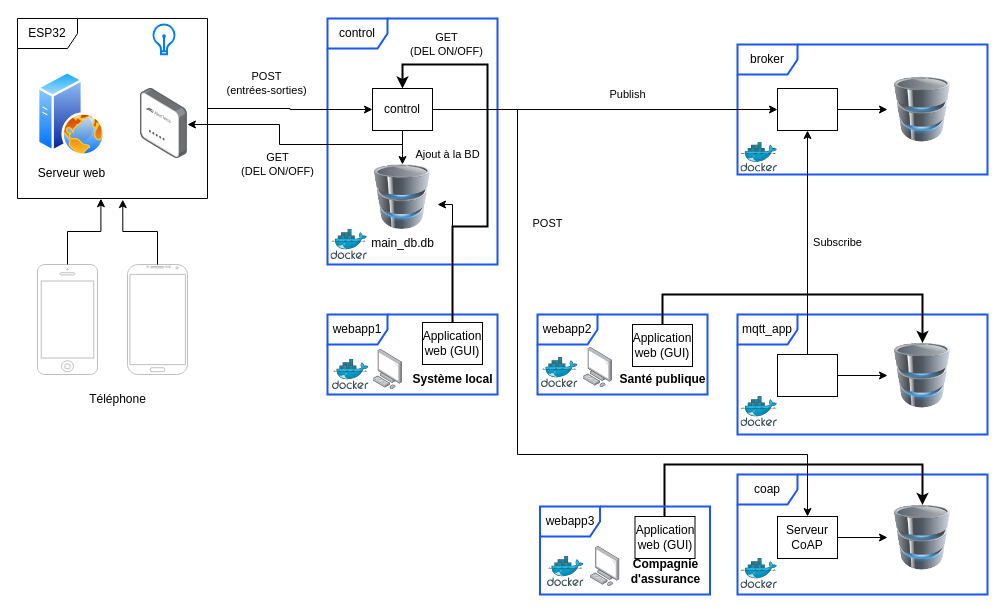
This 1006x612 diagram has some shape labels left out. Each missing label, with the centre of its shape:
"Application MQTT" goes at pixel 807 375.
"assurance_db.db" goes at pixel 922 537.
"Borne BLE" goes at pixel 163 123.
"database.db" goes at pixel 922 109.
"DEL" goes at pixel 163 39.
"Mosquitto" goes at pixel 807 109.
"sante_publique_db.db" goes at pixel 922 375.
